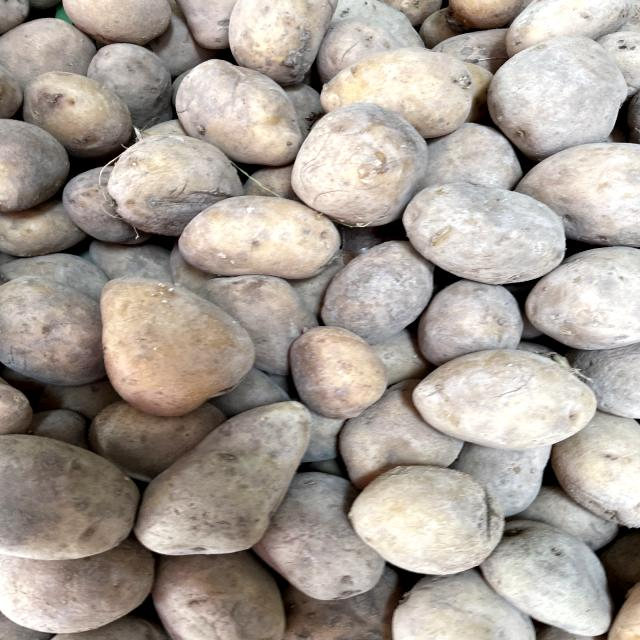potato: (132, 391, 336, 560), (88, 268, 261, 409), (339, 456, 512, 579), (397, 175, 580, 290), (408, 347, 605, 452), (288, 102, 440, 235), (169, 193, 348, 280), (281, 321, 400, 425)
